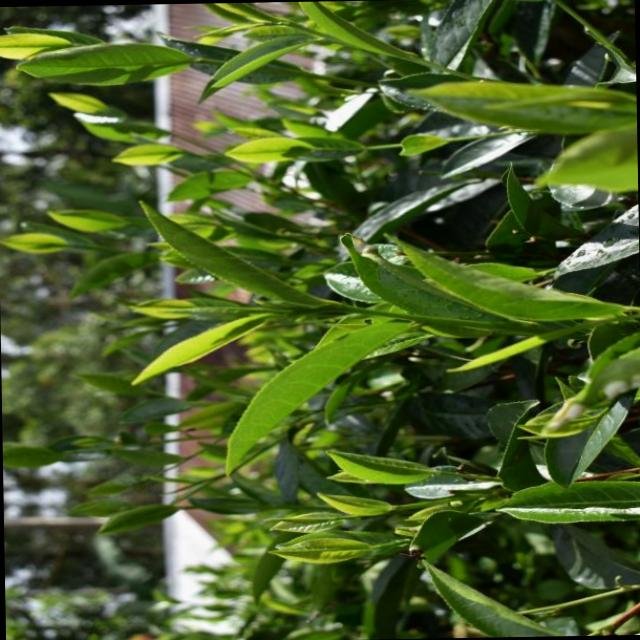Stem: (287, 19, 296, 26), (344, 305, 352, 311), (378, 542, 384, 548), (394, 504, 400, 508), (365, 145, 369, 148)
